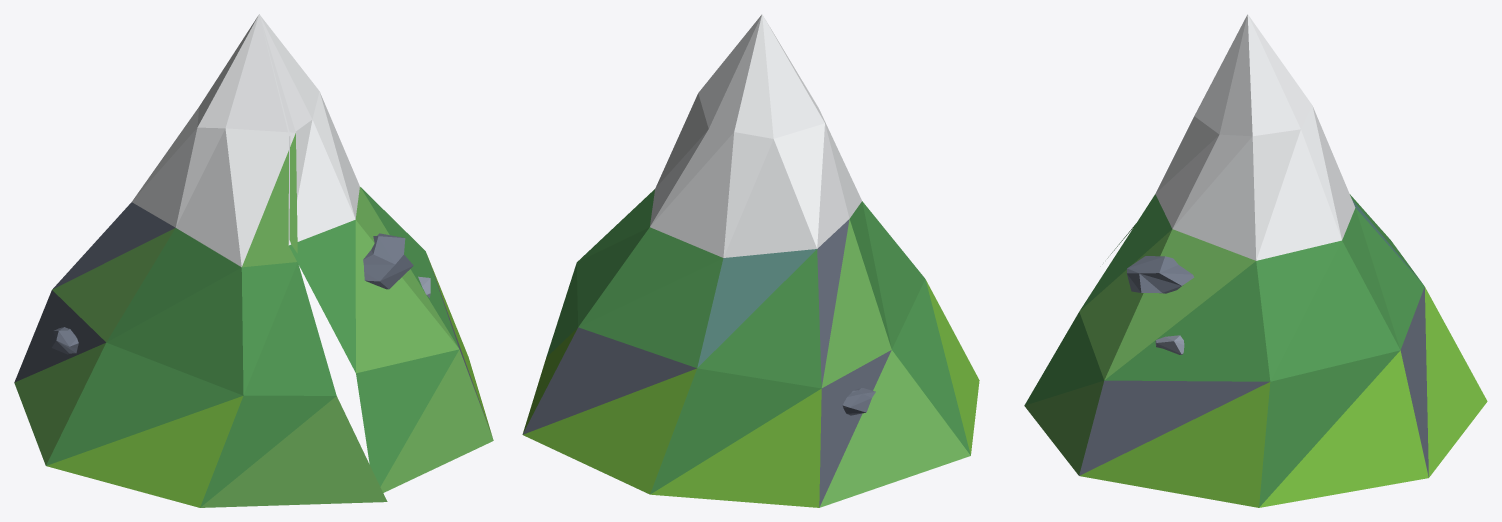
The model's file is montana_nevada_v2.glb.
3 views of the same model, side by side, from view 1: azimuth 30°, elevation 25°; view 2: azimuth 150°, elevation 25°; view 3: azimuth 270°, elevation 25° (orthographic). The views are drawn at different scales.
Visible parts, largest first — view 1: montana_montana, montana_montana_claro, montana_nieve, montana_pasto, montana_roca_oscura, montana_saliente_3, montana_saliente_1; view 2: montana_montana, montana_nieve, montana_pasto, montana_montana_claro, montana_roca_oscura, montana_montana_azul, montana_saliente_1; view 3: montana_montana, montana_pasto, montana_nieve, montana_montana_claro, montana_roca_oscura, montana_saliente_3.
Part boxes in pixels (<box>): montana_montana: <box>46,187,459,507</box>; montana_montana_claro: <box>14,133,493,507</box>; montana_nieve: <box>132,14,359,267</box>; montana_pasto: <box>46,255,492,507</box>; montana_roca_oscura: <box>14,202,490,432</box>; montana_saliente_3: <box>363,233,413,289</box>; montana_saliente_1: <box>51,327,78,354</box>; montana_montana: <box>546,189,970,494</box>; montana_nieve: <box>650,14,861,257</box>; montana_pasto: <box>523,280,979,507</box>; montana_montana_claro: <box>819,219,970,507</box>; montana_roca_oscura: <box>522,219,891,507</box>; montana_montana_azul: <box>697,249,816,367</box>; montana_saliente_1: <box>842,388,875,415</box>; montana_montana: <box>1024,194,1424,507</box>; montana_pasto: <box>1080,287,1487,507</box>; montana_nieve: <box>1155,14,1355,260</box>; montana_montana_claro: <box>1024,229,1255,475</box>; montana_roca_oscura: <box>1079,287,1428,477</box>; montana_saliente_3: <box>1127,256,1194,293</box>.
Size of the model in its own units: 34.72 by 30.96 by 34.37.
